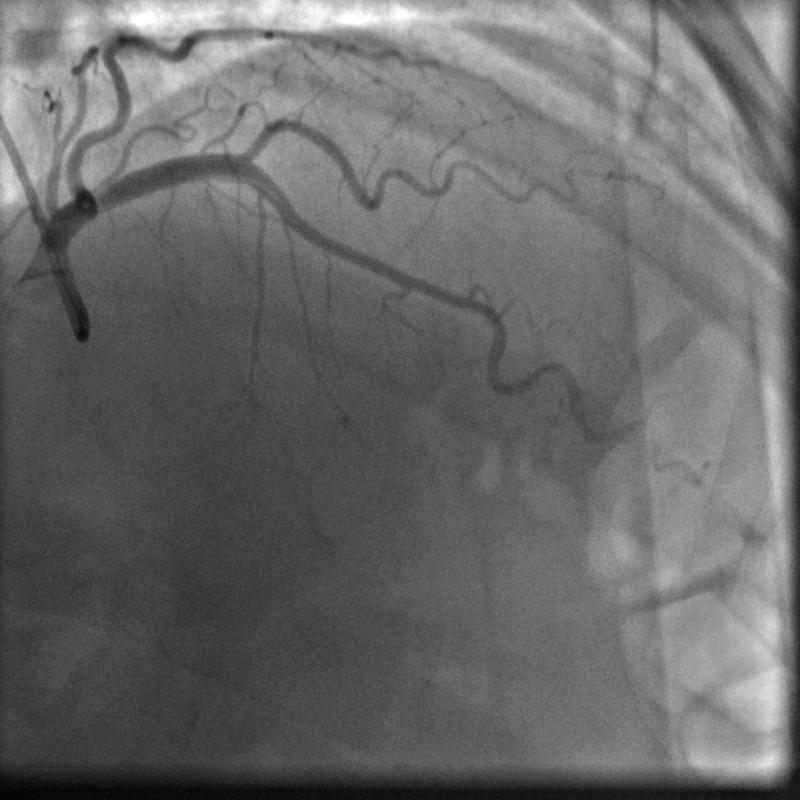Stenosis: (442, 288, 502, 324)
